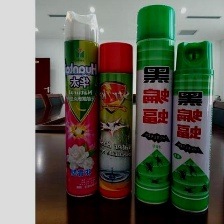aerosol_cans: (133, 1, 179, 208), (167, 38, 216, 217), (61, 9, 101, 200), (95, 39, 136, 202)
